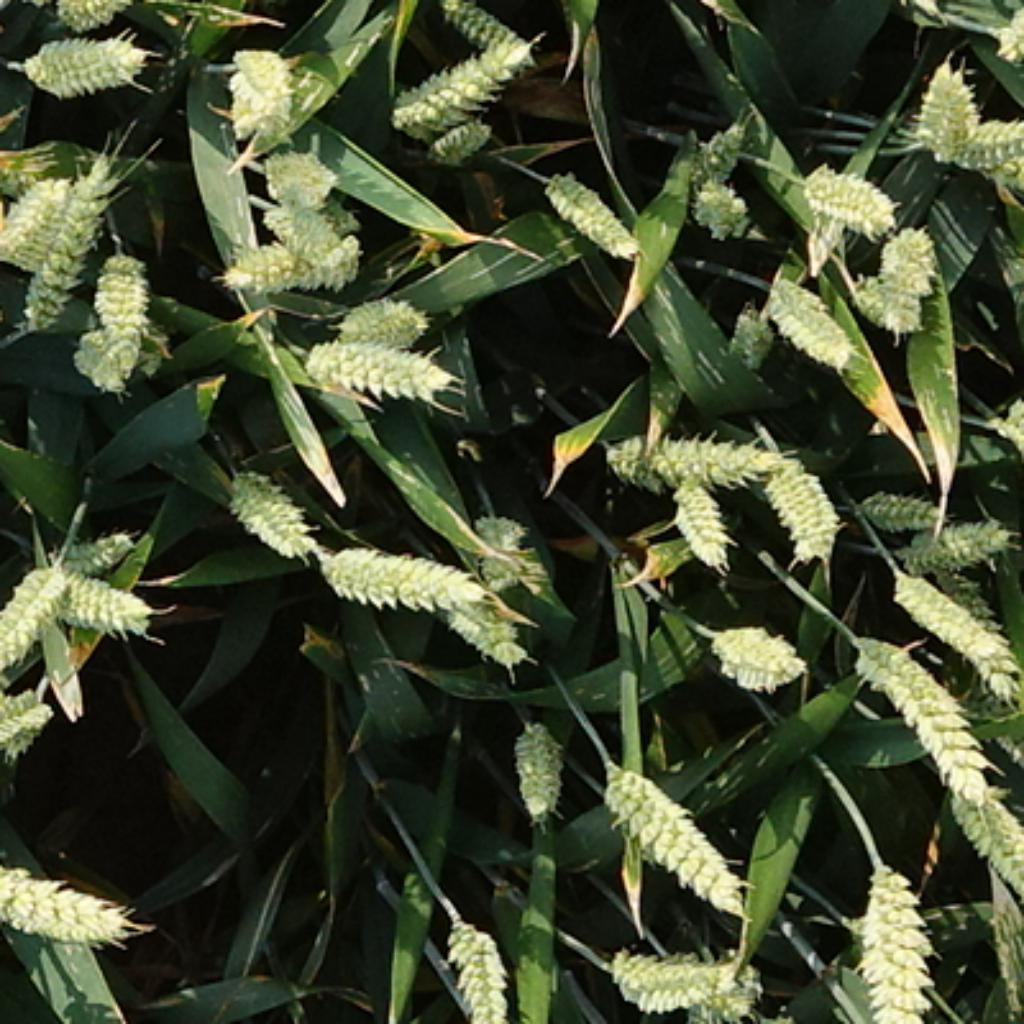0-0: (599, 752, 757, 916), (852, 619, 995, 793), (888, 563, 1024, 706), (20, 153, 112, 332), (844, 854, 939, 1024), (0, 855, 146, 957), (307, 532, 494, 611), (384, 30, 527, 128), (596, 419, 783, 486), (535, 153, 642, 256), (300, 332, 459, 401), (596, 944, 752, 1013), (217, 450, 320, 552), (248, 202, 366, 289), (757, 266, 855, 366), (755, 442, 842, 552), (944, 783, 1024, 896), (903, 53, 988, 158), (15, 33, 148, 99), (0, 550, 71, 670), (212, 225, 340, 291), (793, 157, 898, 236), (92, 253, 156, 381), (441, 925, 523, 1024), (217, 33, 299, 130), (424, 583, 524, 660), (0, 163, 71, 271), (48, 560, 153, 632), (704, 627, 806, 701), (896, 504, 1013, 568), (926, 112, 1024, 186), (504, 716, 570, 824), (460, 499, 535, 586), (668, 476, 737, 568), (0, 676, 56, 781), (849, 270, 932, 340), (673, 110, 752, 181), (878, 220, 939, 304), (258, 140, 337, 204), (43, 519, 140, 570), (332, 296, 427, 348), (432, 0, 527, 51), (696, 954, 766, 1023), (849, 481, 947, 529), (686, 166, 750, 232), (45, 0, 143, 40), (76, 330, 135, 396), (419, 110, 496, 158), (724, 296, 778, 363), (3, 714, 59, 772), (0, 135, 56, 192), (0, 263, 2, 343)
